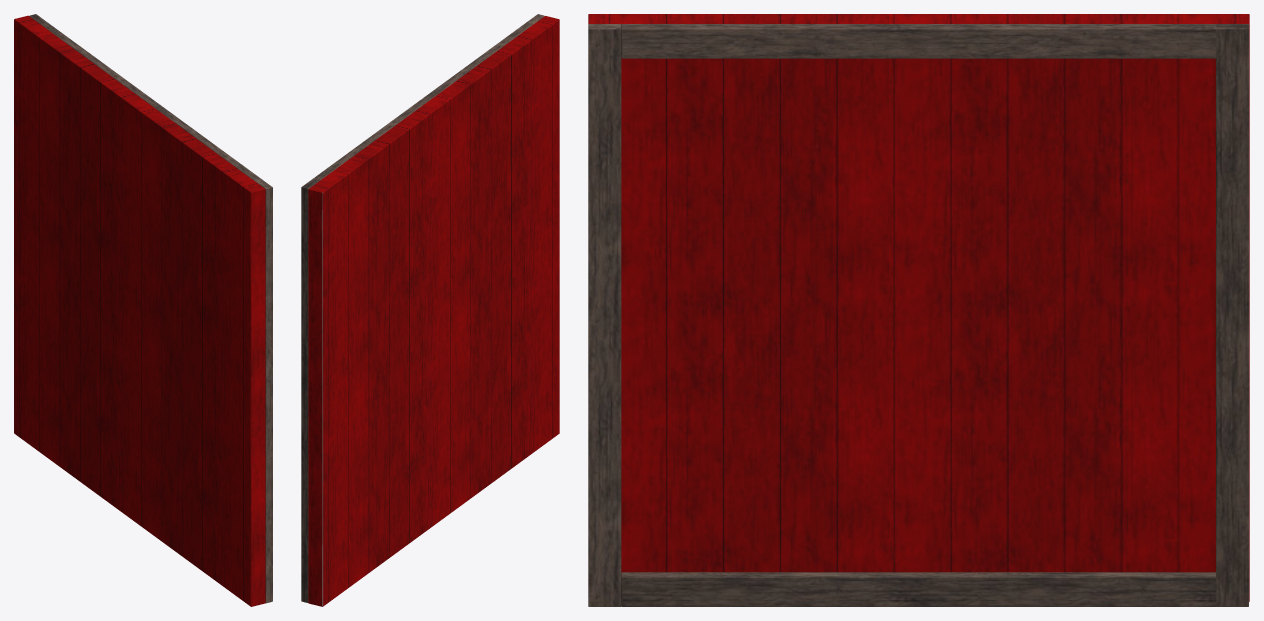
The model's file is StableWall_Flat_LP.glb.
The picture shows the model from 3 angles, left to right: view 1: azimuth 30°, elevation 25°; view 2: azimuth 150°, elevation 25°; view 3: azimuth 270°, elevation 25°; orthographic projection. The views are drawn at different scales.
Parts seen in each view (by area): view 1: StableWall_Flat_LP; view 2: StableWall_Flat_LP; view 3: StableWall_Flat_LP.
Boxes of the visible parts, x1,y1,x2,y2 form: StableWall_Flat_LP: (14,14,272,606); StableWall_Flat_LP: (301,14,559,606); StableWall_Flat_LP: (588,14,1249,606).
Bounding box in the file's own units: 0.2333 × 4.18 × 4.33.
1 material, 1 textured.
